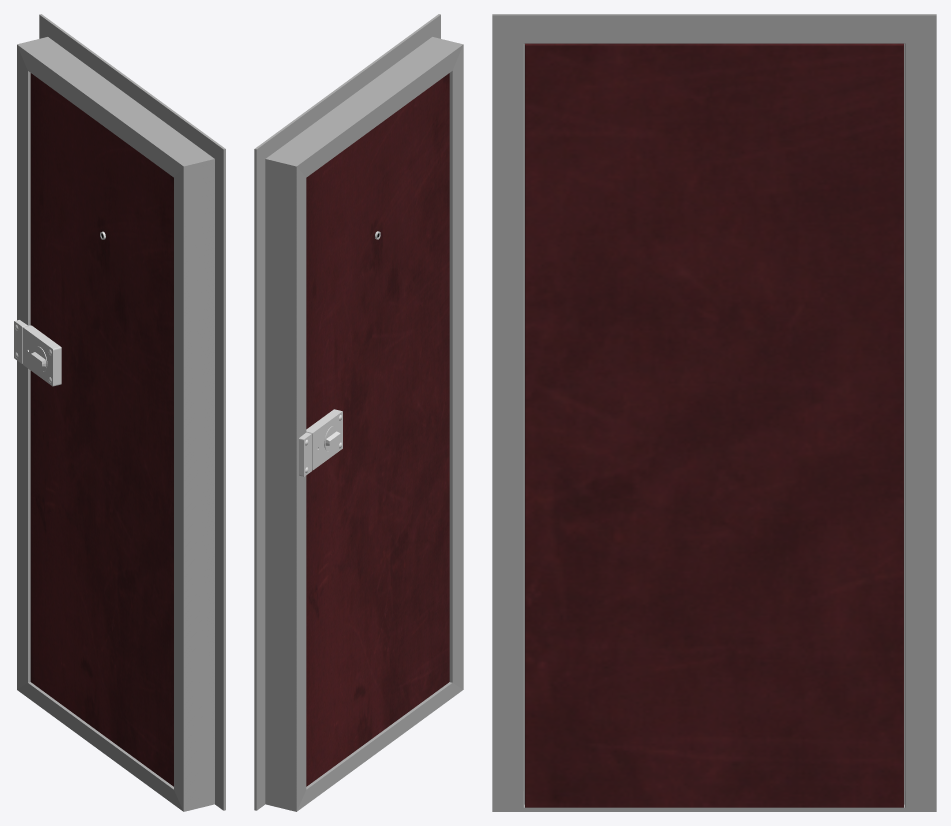
Rendered from EnterDoor.fbx.
3 renders of one model, left to right at view 1: azimuth 30°, elevation 25°; view 2: azimuth 150°, elevation 25°; view 3: azimuth 270°, elevation 25°, orthographic. The views are drawn at different scales.
Visible parts, largest first — view 1: door1, corop1, Куб.001; view 2: door1, corop1, Куб.001, Куб; view 3: door1, corop1.
Boxes of the visible parts, box(x1,y1,x2,y2) form: door1: box(30, 73, 173, 786); corop1: box(17, 14, 225, 811); Куб.001: box(23, 325, 61, 386); door1: box(306, 73, 449, 786); corop1: box(254, 14, 463, 811); Куб.001: box(306, 409, 342, 470); Куб: box(299, 432, 312, 476); door1: box(525, 43, 903, 807); corop1: box(492, 14, 936, 811).
Size of the model in its own units: 7.24 by 104 by 52.75.
